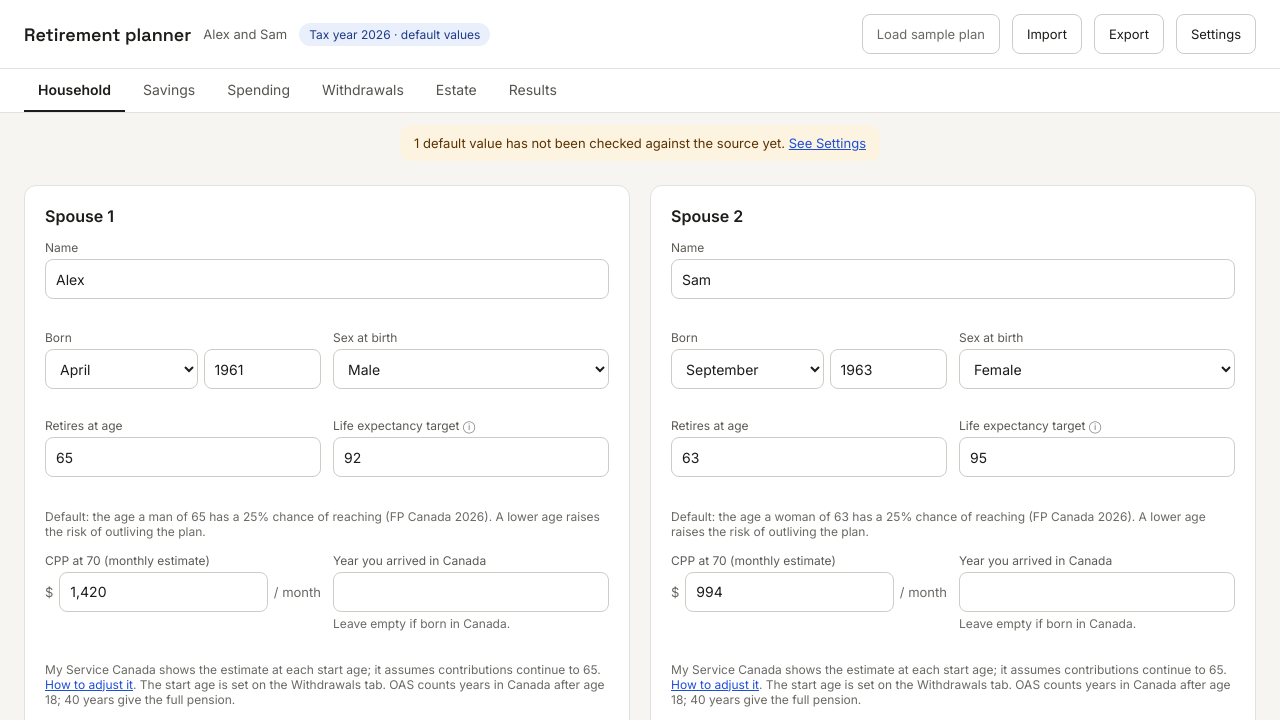
the app shell › shows the household names, the tax-year chip and the notice, both opening Settings
Expected: the text "Alex and Sam" is shown, [203,26,287,42]
Step 1. Click the button "Tax year 2026 · default values" → (395, 34), box [299,22,490,46]
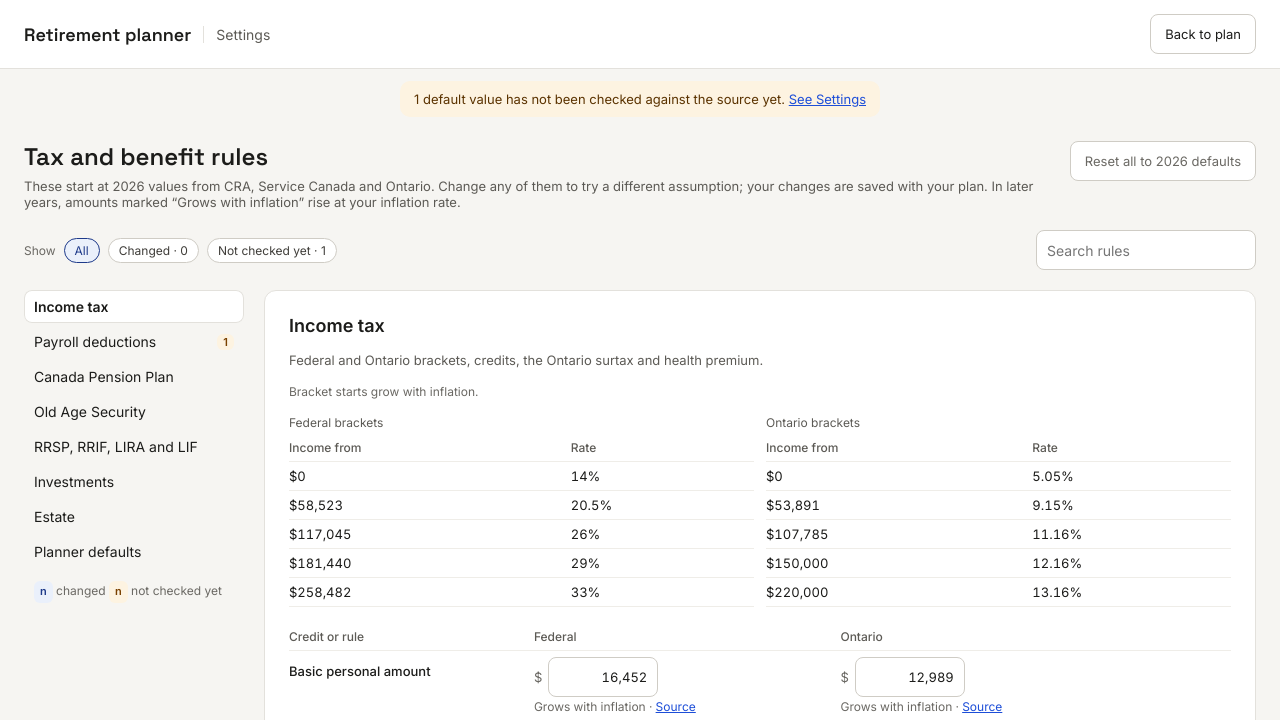
Step 2. Click the button "Back to plan" → (1203, 34), box [1150,14,1256,54]
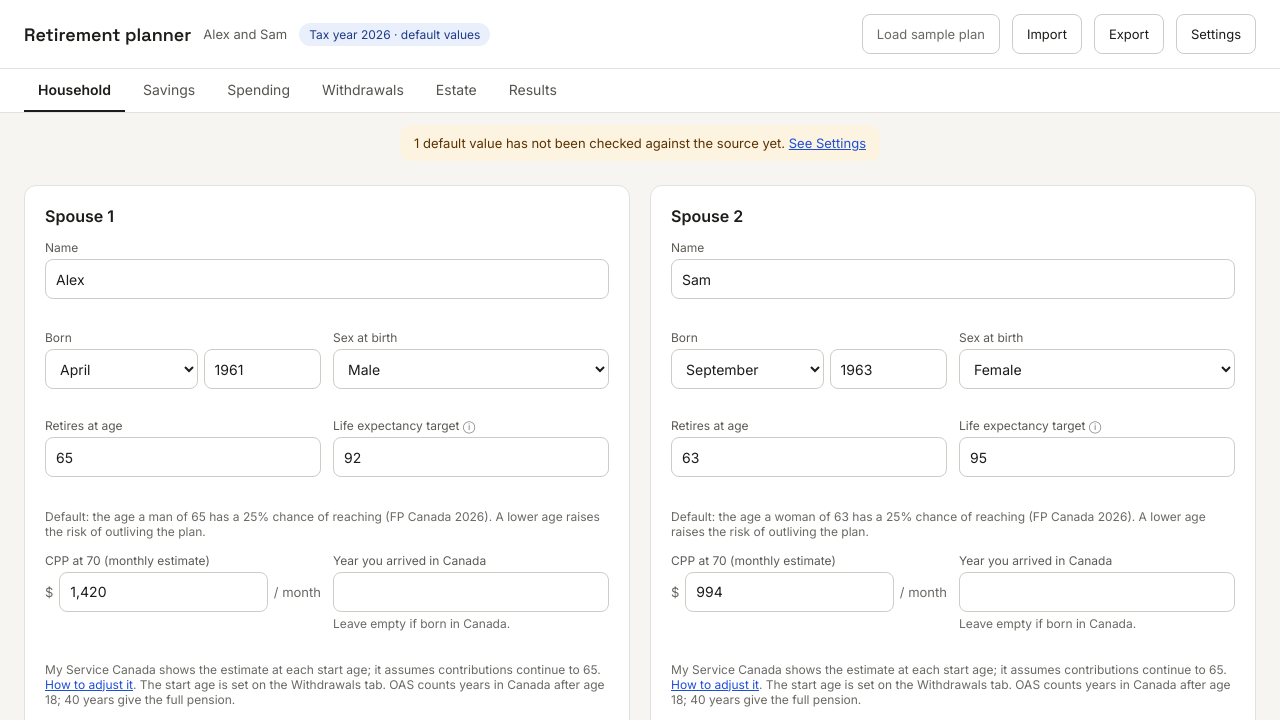
Step 3. Click the button "See Settings" → (827, 143), box [789,135,866,151]
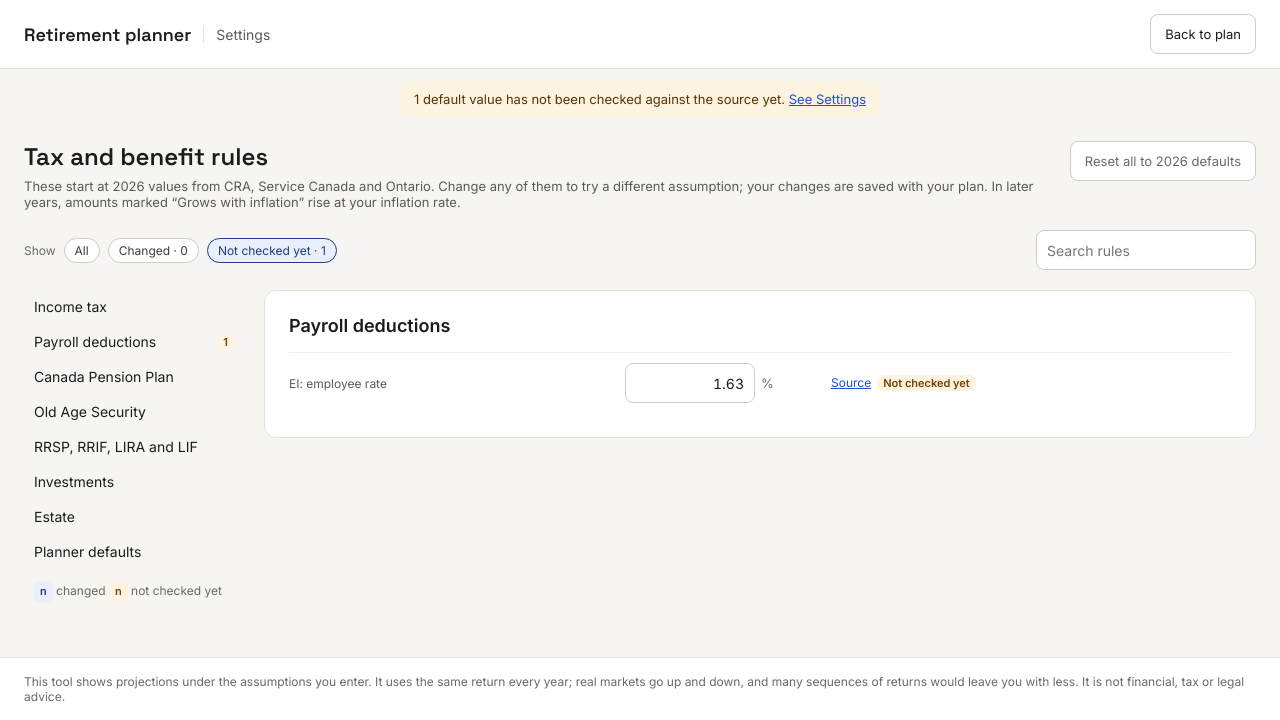
Expected: the button "Load sample plan" is gone
Step 4. Click the button "Back to plan" → (1203, 34), box [1150,14,1256,54]
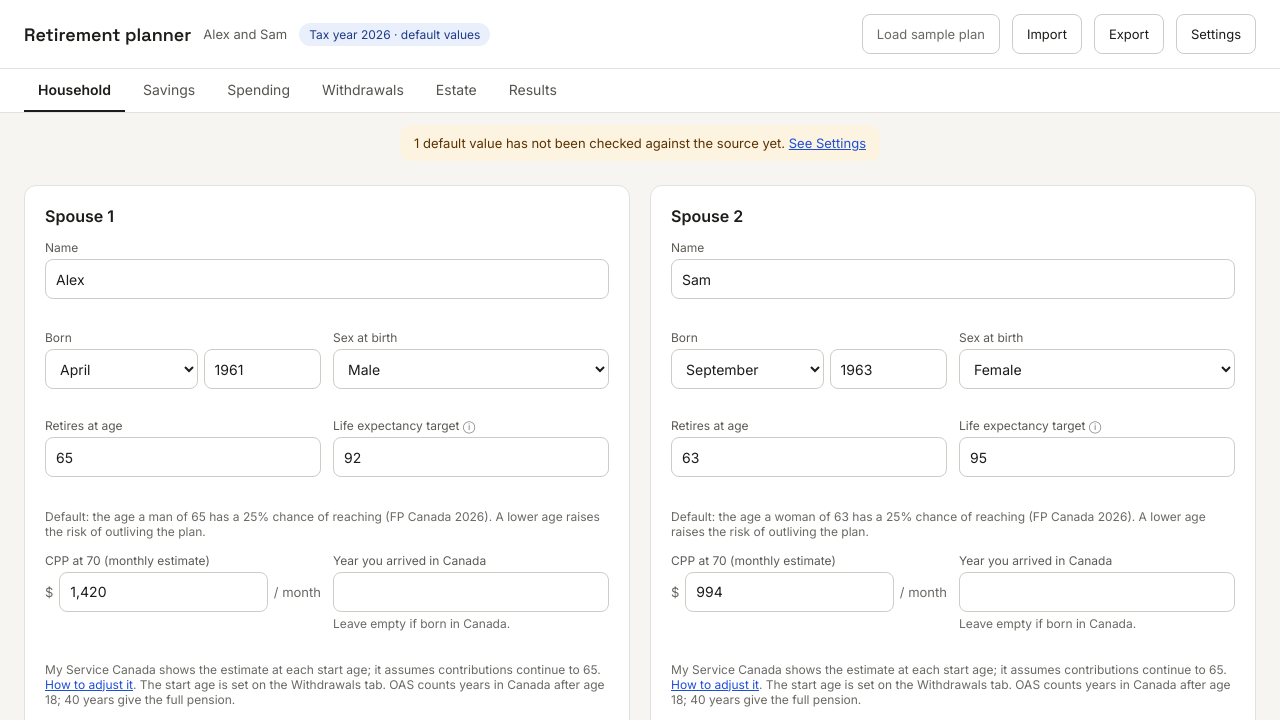
Expected: the button "Load sample plan" is disabled, [862,14,1000,54]
